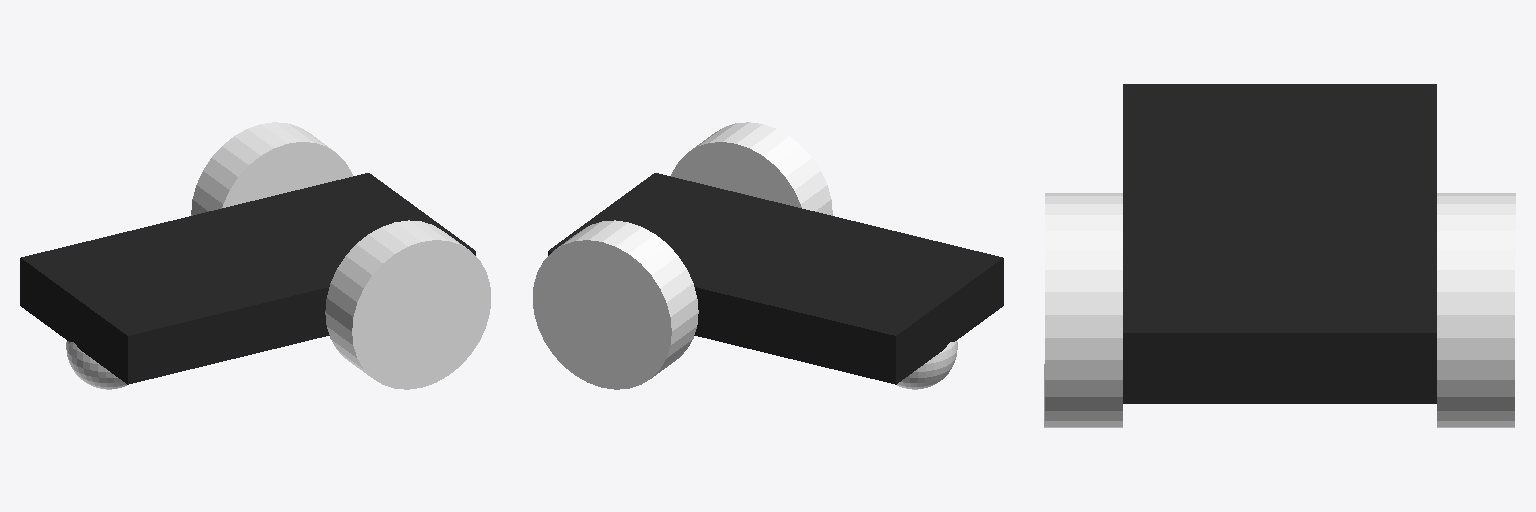
The robot description file, URDF, robot "rehri":
<robot name="rehri">

  <link name="base">
    <visual>
      <geometry>
          <box size="0.75 0.4 0.1"/>
      </geometry>
      <material name="gray">
        <color rgba=".2 .2 .2 1" />
      </material>
    </visual>

    <collision>
      <geometry>
          <box size="0.75 0.4 0.1"/>
      </geometry>
      <contact_coefficients mu="0" kp="1000.0" kd="1.0"/>
    </collision>
  </link>

  <link name="wheel_right">
    <inertial>
      <mass value="1"/>
      <inertia ixx="100" ixy="0" ixz="0" iyy="100" iyz="0" izz="100" />
      <origin/>
    </inertial>

    <visual>
      
      <geometry>
          <cylinder radius="0.15" length="0.1"/>
      </geometry>
      <material name="white">
        <color rgba="1 1 1 1"/>
      </material>
    </visual>

    <collision>
    
      <geometry>
          <cylinder radius="0.15" length="0.1"/>
      </geometry>
      <contact_coefficients mu="0" kp="1000.0" kd="1.0"/>
    </collision>
  </link>

  <joint name="wheel_right_joint" type="continuous">
    <origin xyz="0.2 0.25 0.0" rpy="1.57 0.0 0.0"/>
    <parent link="base"/>
    <child link="wheel_right"/>
    <axis xyz="0.0 0.0 1.0"/>
  </joint>

  <link name="wheel_left">
    <inertial>
      <mass value="1"/>
      <inertia ixx="100" ixy="0" ixz="0" iyy="100" iyz="0" izz="100" />
      <origin/>
    </inertial>

    <visual>
      
      <geometry>
          <cylinder radius="0.15" length="0.1"/>
      </geometry>
      <material name="white">
        <color rgba="1 1 1 1"/>
      </material>
    </visual>

    <collision>
      <geometry>
          <cylinder radius="0.15" length="0.1"/>
      </geometry>
      <contact_coefficients mu="0" kp="1000.0" kd="1.0"/>
    </collision>
  </link>

  <joint name="wheel_left_joint" type="continuous">
    <origin xyz="0.2 -0.25 0.0" rpy="1.57 0.0 0.0"/>
    <parent link="base"/>
    <child link="wheel_left"/>
    <axis xyz="0.0 0.0 1.0"/>

  </joint>



  <link name="caster">
    <inertial>
      <mass value="1"/>
      <inertia ixx="100" ixy="0" ixz="0" iyy="100" iyz="0" izz="100" />
      <origin/>
    </inertial>

    <visual>
    
      <geometry>
        <sphere radius=".08" />
      </geometry>
      <material name="white" />
    </visual>

    <collision>
      <origin/>
      <geometry>
        <sphere radius=".02" />
      </geometry>
      <contact_coefficients mu="0" kp="1000.0" kd="1.0"/>
    </collision>
  </link>

  <joint name="caster_joint" type="continuous">
    <origin xyz="-0.3 0.0 -0.07" rpy="0.0 0.0 0.0"/>
    <axis xyz="0 0 1" />
    <parent link="base"/>
    <child link="caster"/>
  </joint>

</robot>

--- Render facts (derived) ---
3 views of the same robot in one strip: view 1: azimuth 30°, elevation 25°; view 2: azimuth 150°, elevation 25°; view 3: azimuth 270°, elevation 25° (orthographic).
Robot: rehri — 4 links, 3 joints (3 continuous); root link base; default pose: every joint at zero.
Links seen in each view (by area): view 1: base, wheel_left, wheel_right, caster; view 2: base, wheel_right, wheel_left, caster; view 3: base, wheel_right, wheel_left.
Boxes of the visible links, bbox=[...] form: base: bbox=[20, 173, 475, 384]; wheel_left: bbox=[325, 220, 490, 389]; wheel_right: bbox=[191, 122, 352, 215]; caster: bbox=[66, 341, 126, 389]; base: bbox=[548, 173, 1003, 384]; wheel_right: bbox=[533, 220, 698, 389]; wheel_left: bbox=[671, 122, 832, 215]; caster: bbox=[897, 341, 957, 389]; base: bbox=[1123, 84, 1436, 403]; wheel_right: bbox=[1437, 193, 1515, 427]; wheel_left: bbox=[1044, 193, 1122, 427].
Size in the robot's own frame: 0.755 by 0.6002 by 0.3001 metres.
Geometry: primitives only (box / cylinder / sphere), no mesh files.
